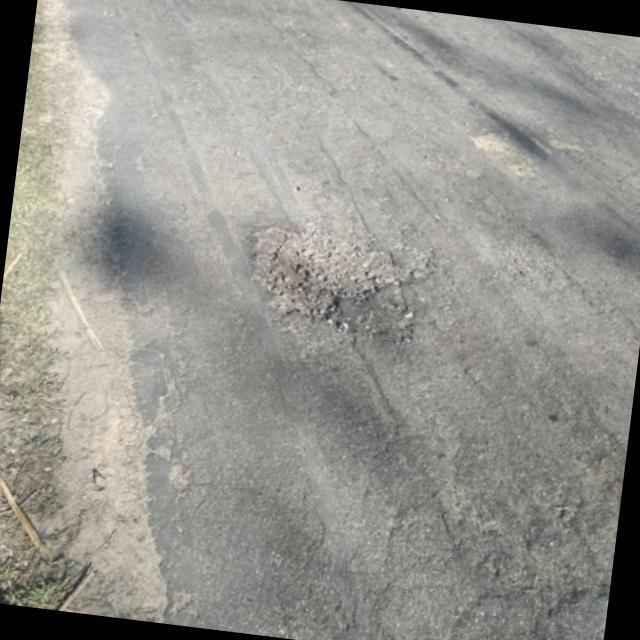Pothole: (254, 227, 429, 319)
